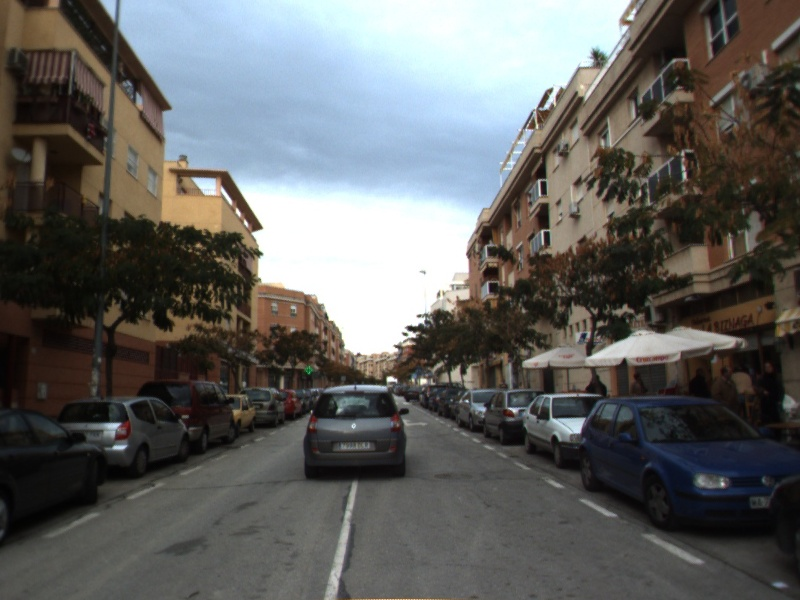STRAIGHT_RIGHT: (401, 417, 432, 428)
